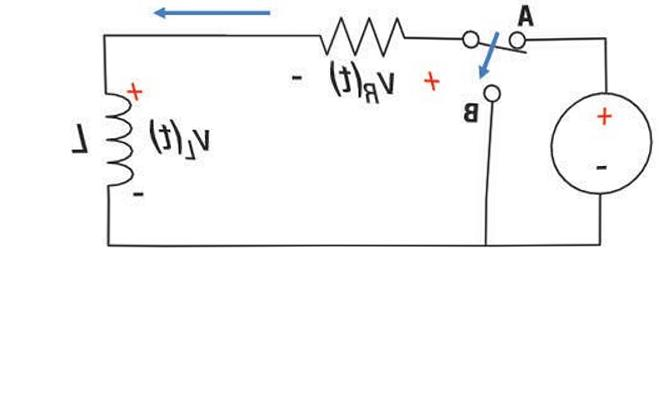Battery: (530, 86, 662, 213)
